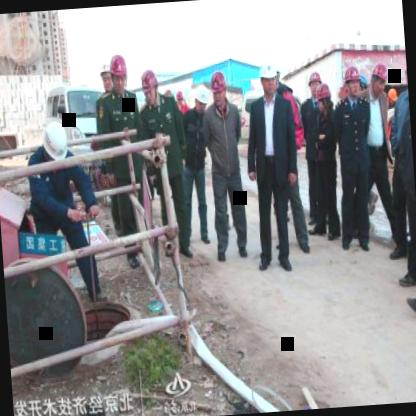helmet: (37, 115, 70, 176), (105, 50, 131, 94), (209, 67, 232, 110), (190, 80, 214, 120), (140, 65, 162, 106), (256, 58, 280, 95), (368, 59, 390, 96), (343, 63, 363, 103), (97, 58, 115, 98), (314, 82, 332, 115), (306, 70, 322, 99), (174, 86, 186, 110), (402, 53, 408, 90)
